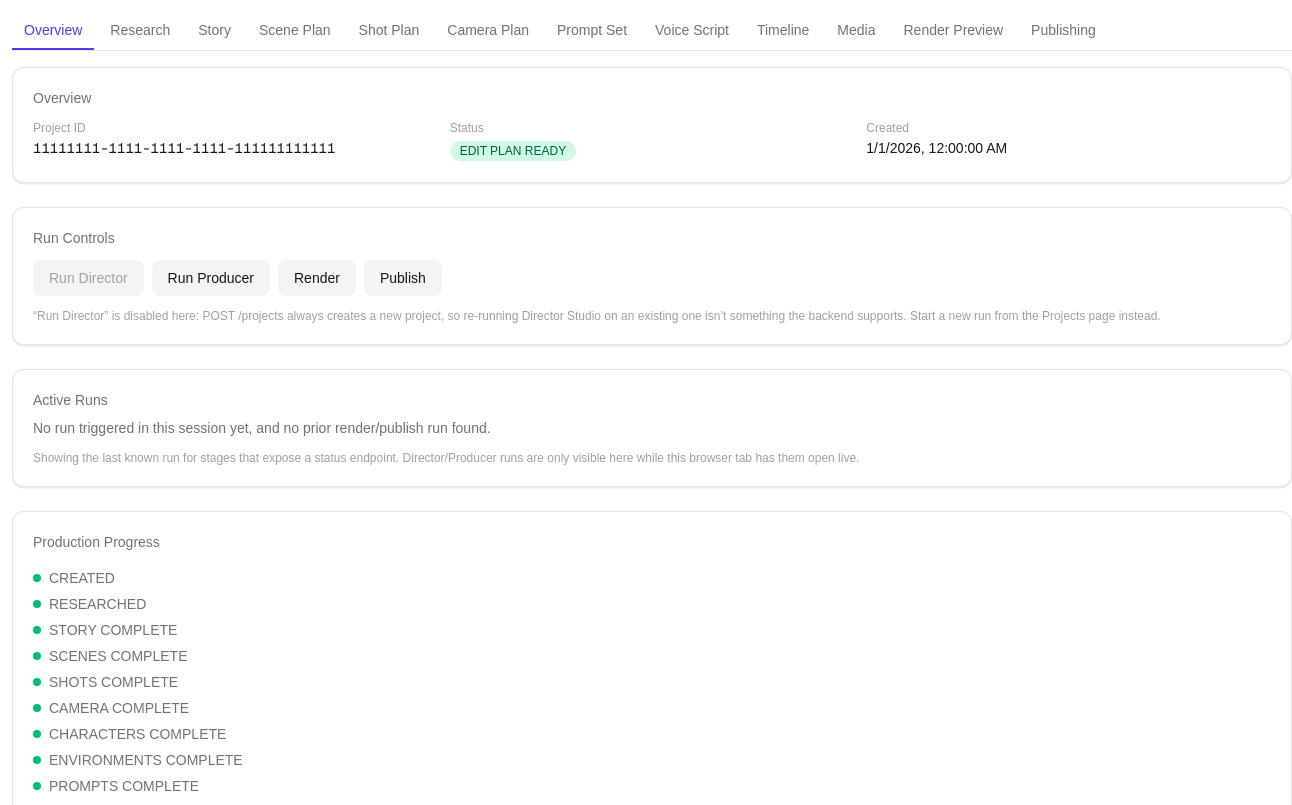
Scenario: ProjectWorkspace › switches to the Timeline tab and renders producer-package content
Click the tab "Timeline" at (783, 31), box [745,12,821,50]
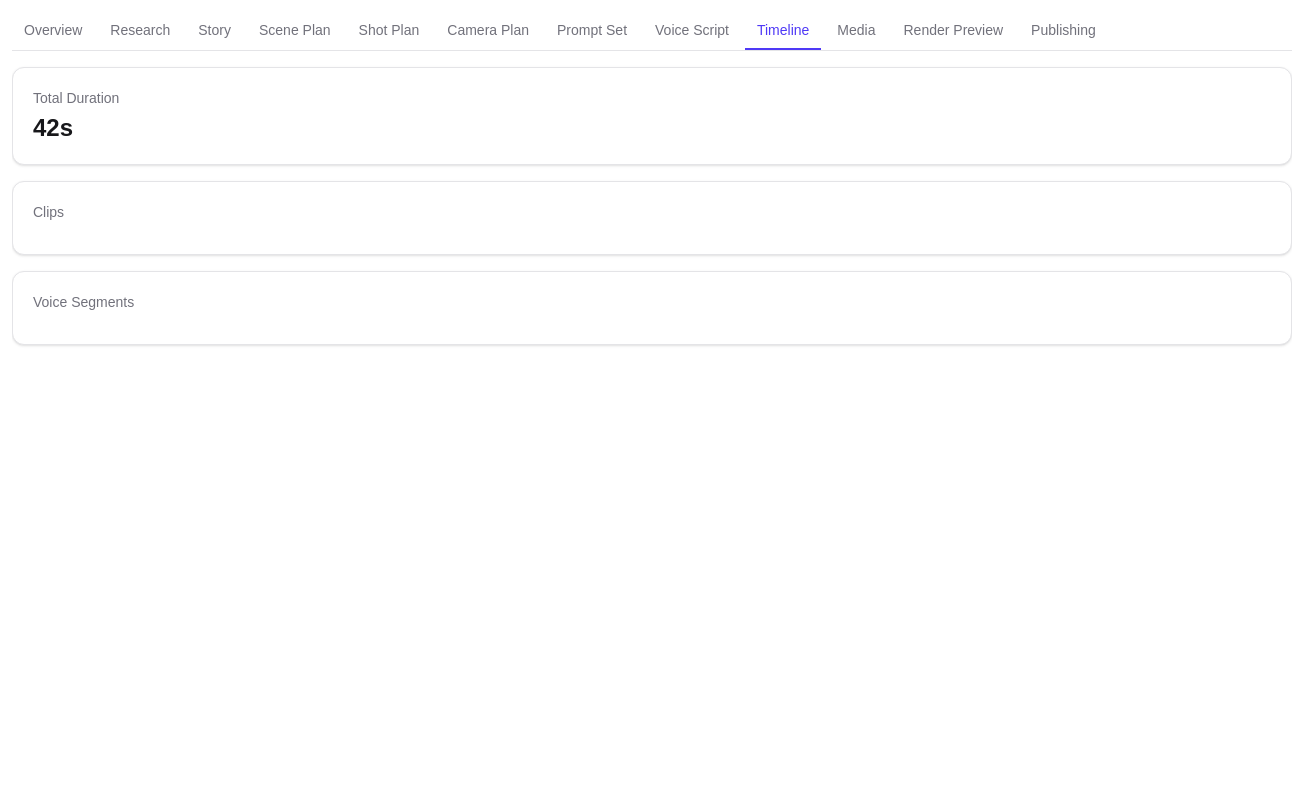
Now the text "42s" is shown, box [33,114,73,141]
